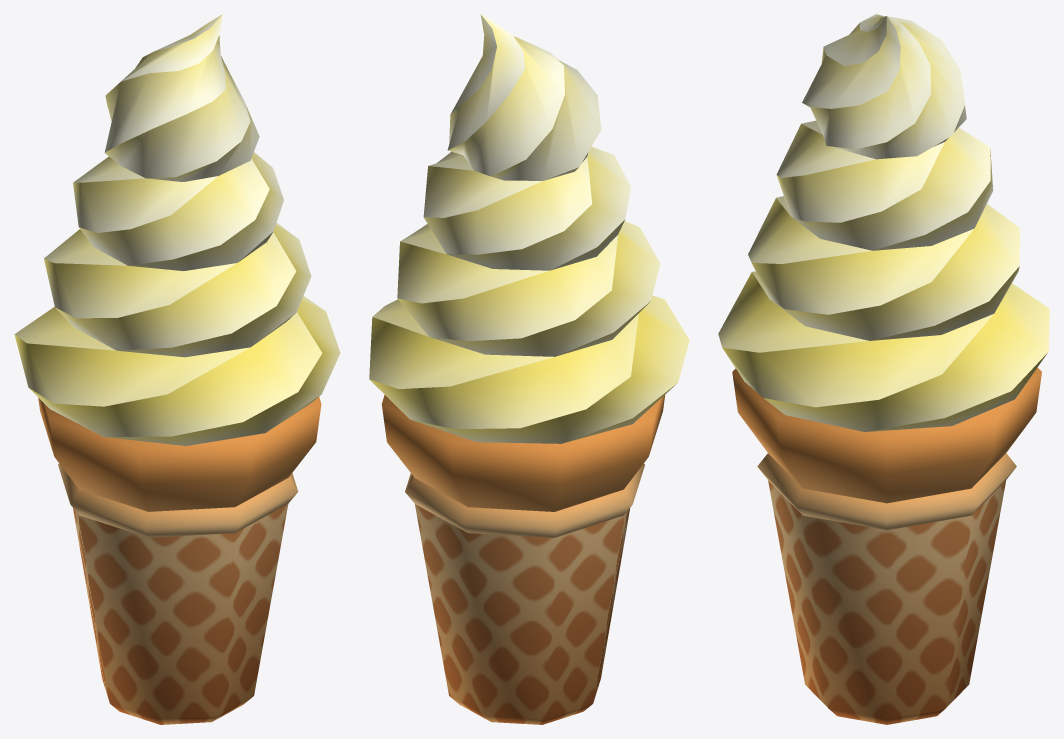
Rendered from m_Softserve02.fbx.
3 views of the same model, side by side, from view 1: azimuth 30°, elevation 25°; view 2: azimuth 150°, elevation 25°; view 3: azimuth 270°, elevation 25° (orthographic). The views are drawn at different scales.
Visible parts, largest first — view 1: m_Softserve02; view 2: m_Softserve02; view 3: m_Softserve02.
Part boxes in pixels (x1,y1,x2,y2): m_Softserve02: (14, 14, 340, 724); m_Softserve02: (369, 14, 689, 724); m_Softserve02: (718, 14, 1049, 724).
Bounding box in the file's own units: 11.45 × 26 × 11.13.
